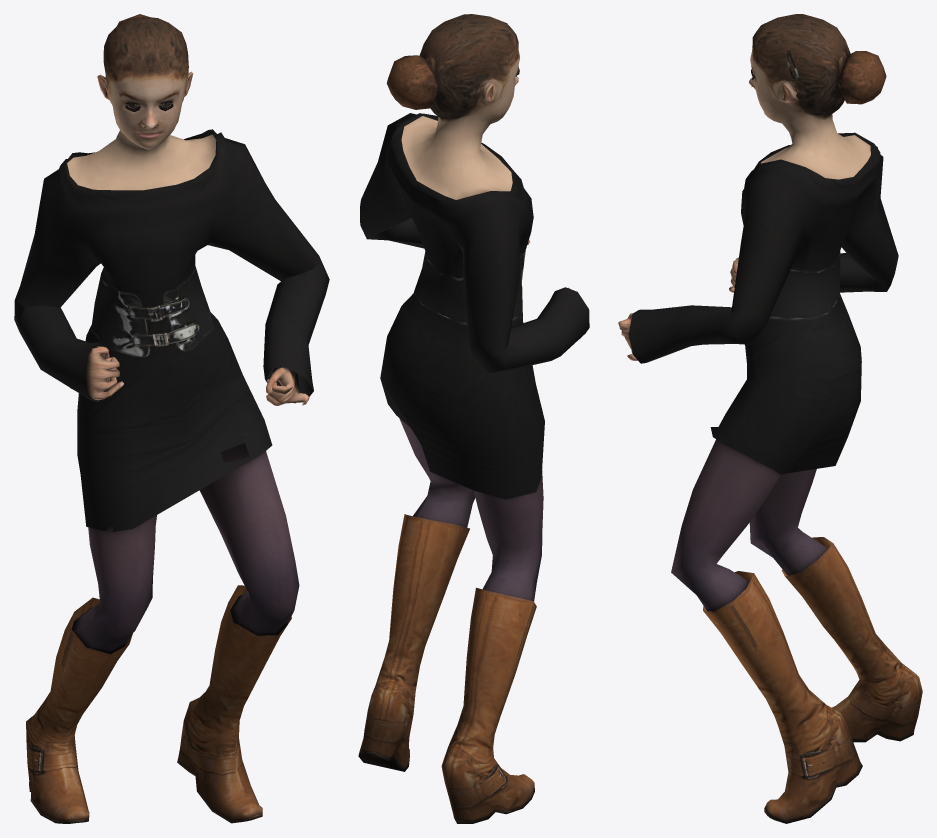
Rendered from Ana_Model_000036.obj.
The picture shows the model from 3 angles, left to right: view 1: azimuth 30°, elevation 25°; view 2: azimuth 150°, elevation 25°; view 3: azimuth 270°, elevation 25°; orthographic projection. The views are drawn at different scales.
Parts seen in each view (by area): view 1: Ana_Cube.004; view 2: Ana_Cube.004; view 3: Ana_Cube.004.
Boxes of the visible parts, x1=… form: Ana_Cube.004: x1=14, y1=14, x2=329, y2=823; Ana_Cube.004: x1=358, y1=14, x2=589, y2=823; Ana_Cube.004: x1=618, y1=14, x2=922, y2=823.
Size of the model in its own units: 0.6071 by 1.89 by 0.6899.
1 material, 1 textured.
